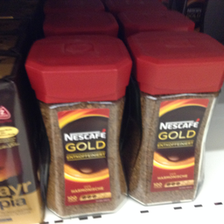chocolate: (25, 35, 132, 216), (128, 30, 224, 204)
